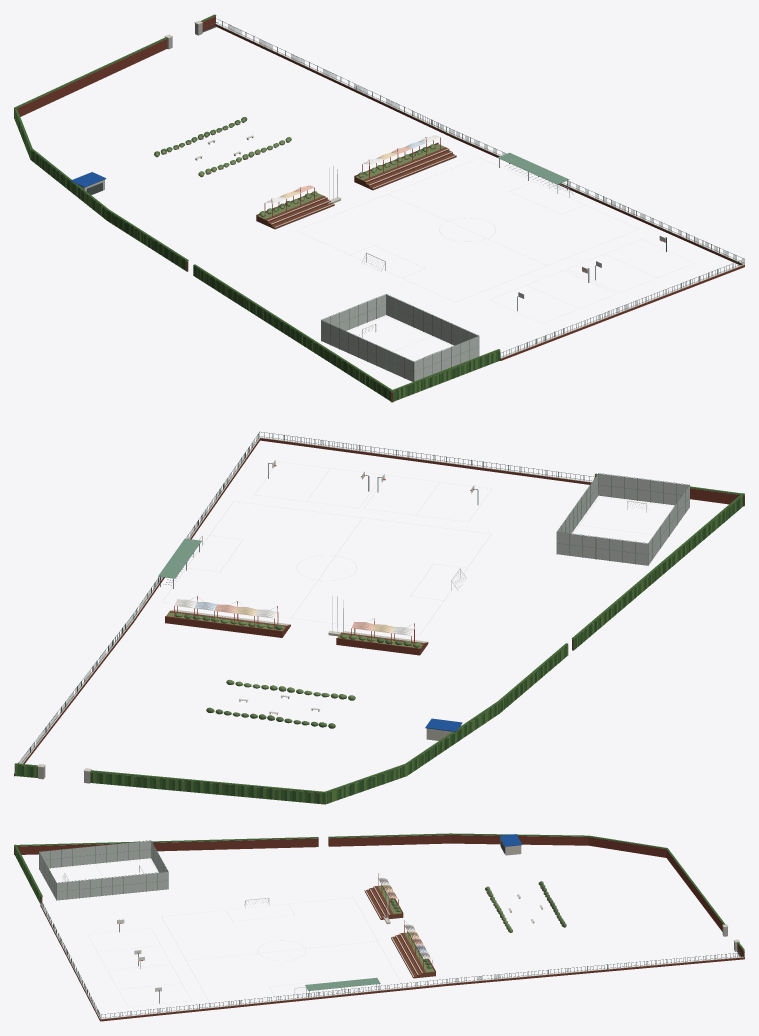
3 views of the same model, one above another, from view 1: azimuth 30°, elevation 25°; view 2: azimuth 150°, elevation 25°; view 3: azimuth 270°, elevation 25° (orthographic). The views are drawn at different scales.
Visible parts, largest first — view 1: prop_boundary-fence, prop_court-fences, prop_field-stand, prop_courtyard-garden, prop_field-lines, prop_shade-canopies, prop_bike-shelter, prop_flowerbeds; view 2: prop_boundary-fence, prop_court-fences, prop_field-stand, prop_shade-canopies, prop_courtyard-garden, prop_field-lines, prop_bike-shelter, prop_flowerbeds; view 3: prop_boundary-fence, prop_court-fences, prop_field-stand, prop_field-lines, prop_shade-canopies, prop_courtyard-garden, prop_bike-shelter, prop_recycling-shed.
Part boxes in pixels (left/top/right/bottom): prop_boundary-fence: left=14, top=14, right=744, bottom=402; prop_court-fences: left=321, top=294, right=479, bottom=381; prop_field-stand: left=256, top=142, right=456, bottom=229; prop_courtyard-garden: left=154, top=117, right=291, bottom=177; prop_field-lines: left=296, top=158, right=691, bottom=351; prop_shade-canopies: left=264, top=135, right=440, bottom=217; prop_bike-shelter: left=497, top=152, right=569, bottom=193; prop_flowerbeds: left=259, top=144, right=435, bottom=216; prop_boundary-fence: left=14, top=431, right=744, bottom=804; prop_court-fences: left=556, top=473, right=689, bottom=565; prop_field-stand: left=165, top=609, right=428, bottom=655; prop_shade-canopies: left=174, top=596, right=414, bottom=647; prop_courtyard-garden: left=206, top=679, right=355, bottom=728; prop_field-lines: left=162, top=461, right=673, bottom=634; prop_bike-shelter: left=158, top=538, right=201, bottom=588; prop_flowerbeds: left=175, top=613, right=420, bottom=647; prop_boundary-fence: left=14, top=833, right=744, bottom=1021; prop_court-fences: left=39, top=840, right=168, bottom=900; prop_field-stand: left=364, top=885, right=435, bottom=978; prop_field-lines: left=49, top=859, right=401, bottom=1007; prop_shade-canopies: left=378, top=873, right=432, bottom=969; prop_courtyard-garden: left=485, top=881, right=566, bottom=932; prop_bike-shelter: left=305, top=977, right=380, bottom=996; prop_recycling-shed: left=499, top=834, right=522, bottom=855.
Bounding box in the file's own units: 106 × 8.6 × 183.
26 materials, 1 textured.
